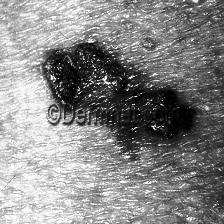Potentially Malignant Skin Tumors: (36, 38, 182, 108), (119, 121, 196, 138)
